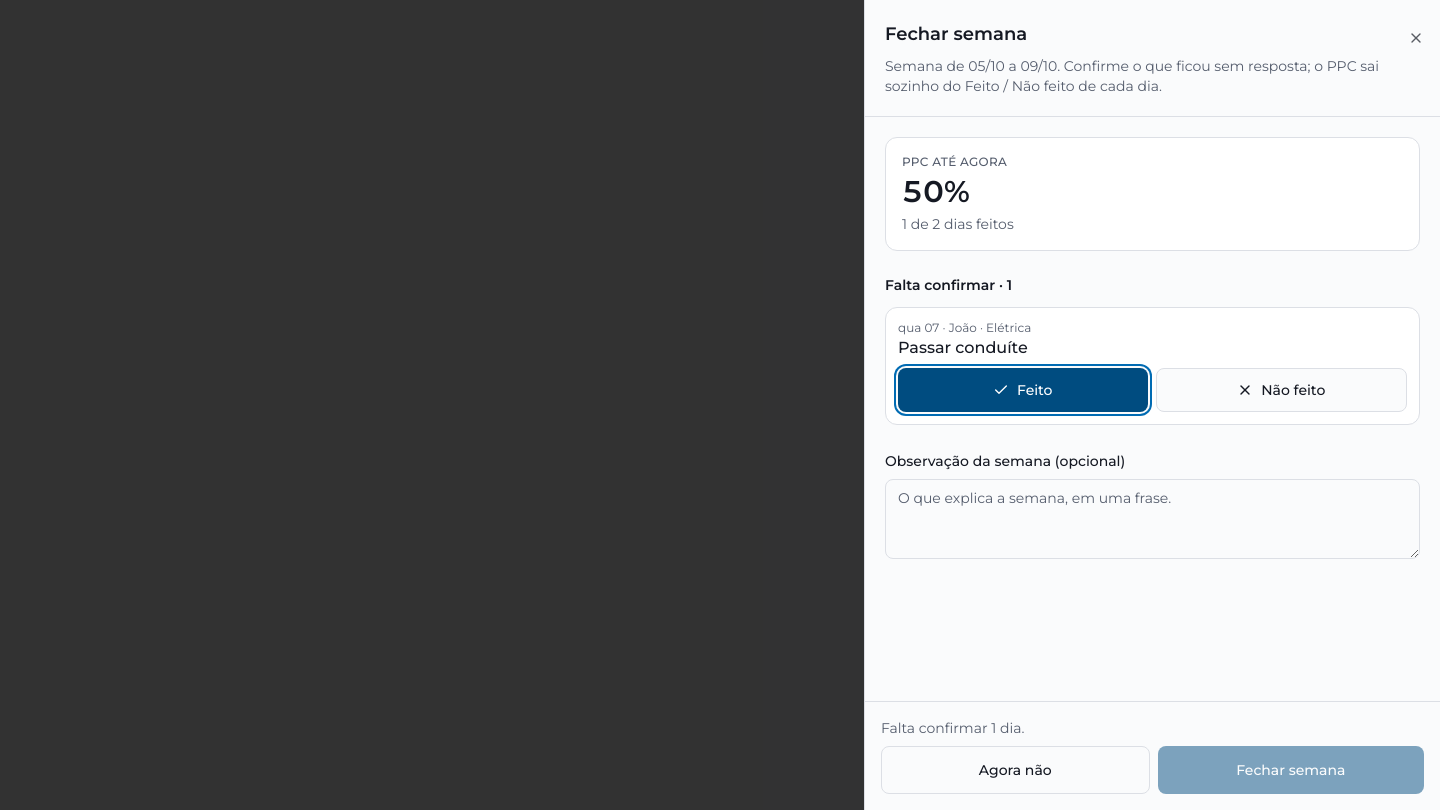
CloseWeekSheet › não deixa fechar enquanto a resposta do último dia ainda está sendo gravada
Later steps or results of the test are not shown.
Step 1. Click the button with aria-label "Feito: Passar conduíte, qua 07" → (1023, 390), box [898,368,1148,412]
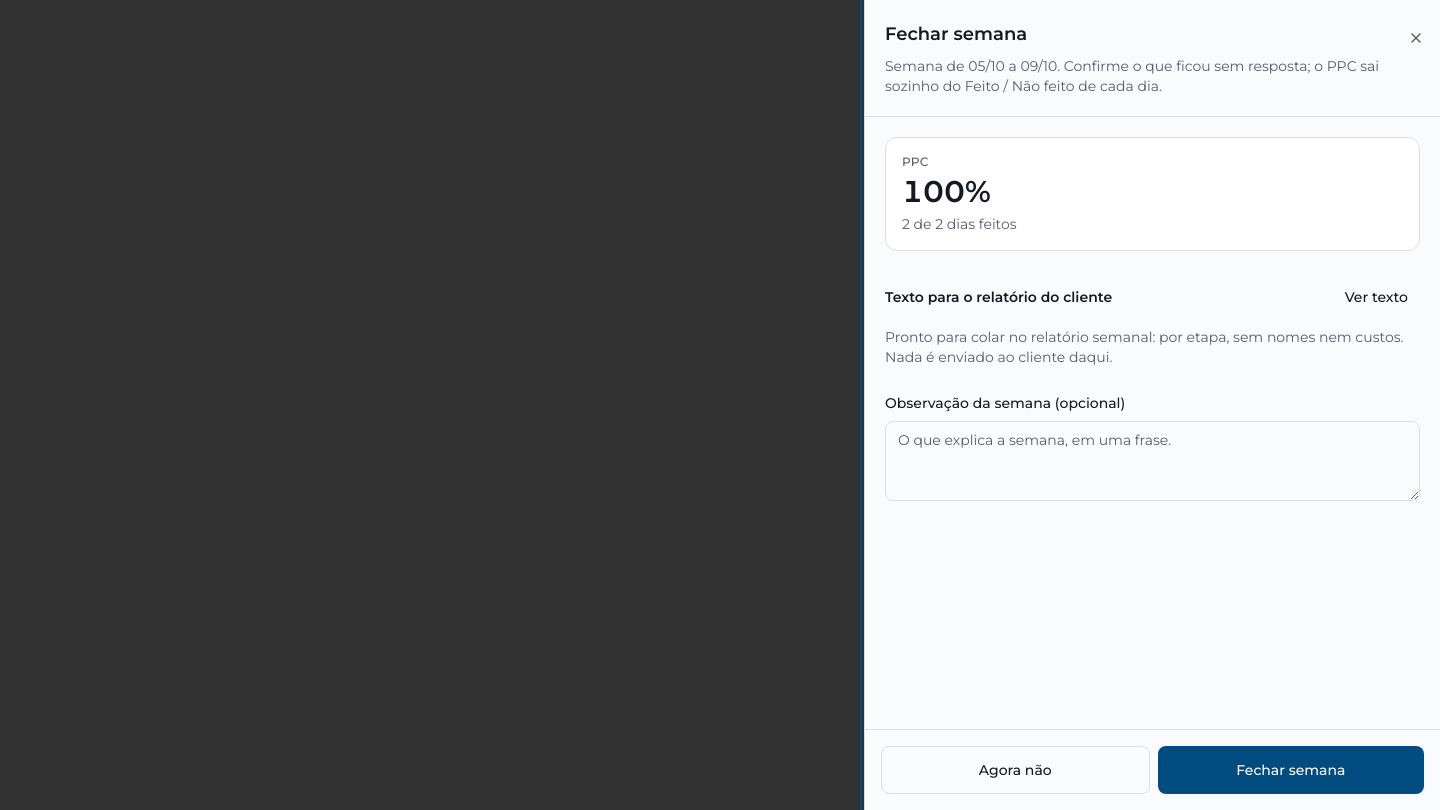
Result: the heading "Falta confirmar" is gone
Result: the button "Fechar semana" is enabled at [1158,746,1424,794]
